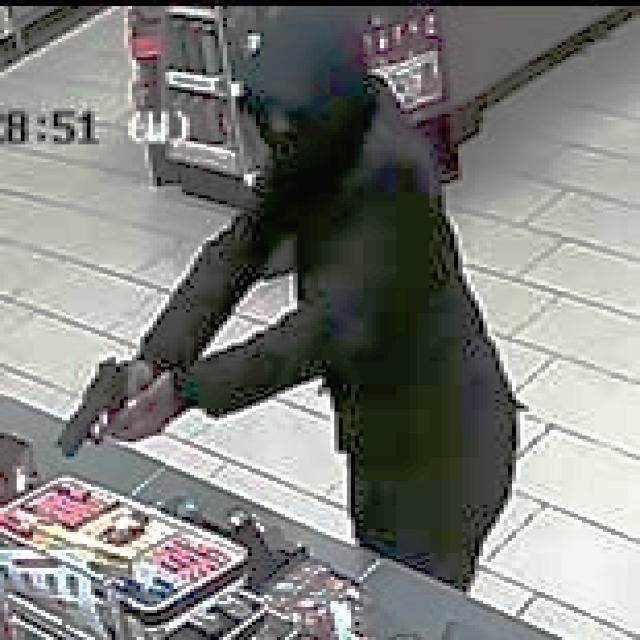Gun: (41, 352, 161, 462)
